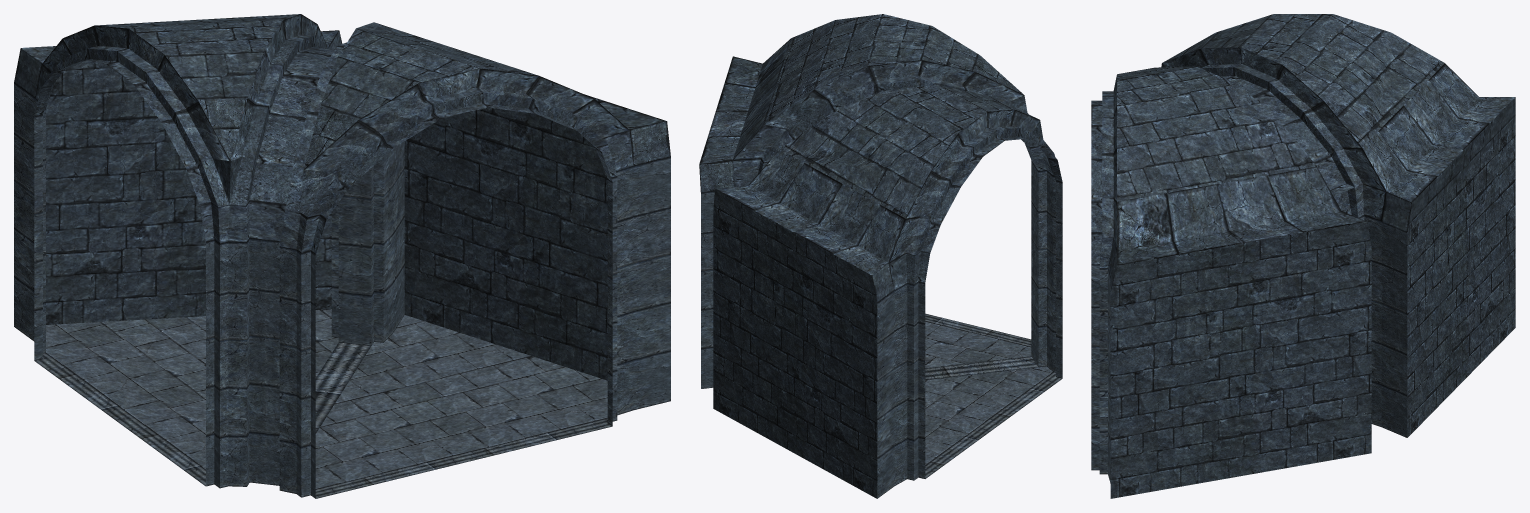
The model's file is wall_2side.FBX.
The picture shows the model from 3 angles, left to right: view 1: azimuth 30°, elevation 25°; view 2: azimuth 150°, elevation 25°; view 3: azimuth 270°, elevation 25°; orthographic projection. The views are drawn at different scales.
Parts seen in each view (by area): view 1: 2side_tunnel; view 2: 2side_tunnel; view 3: 2side_tunnel.
Boxes of the visible parts, left/top/right/bottom form: 2side_tunnel: left=14, top=14, right=670, bottom=498; 2side_tunnel: left=699, top=14, right=1062, bottom=498; 2side_tunnel: left=1091, top=14, right=1515, bottom=498.
Bounding box in the file's own units: 91.86 × 75.6 × 91.86.
